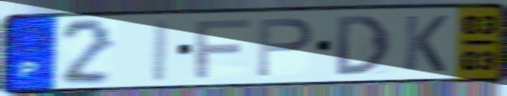2: (57, 17, 120, 89)
D: (334, 13, 394, 78)
F: (192, 17, 253, 80)
I: (148, 18, 175, 84)
K: (401, 13, 451, 74)
P: (254, 16, 315, 79)
